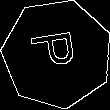P_E: (29, 32, 85, 77)
